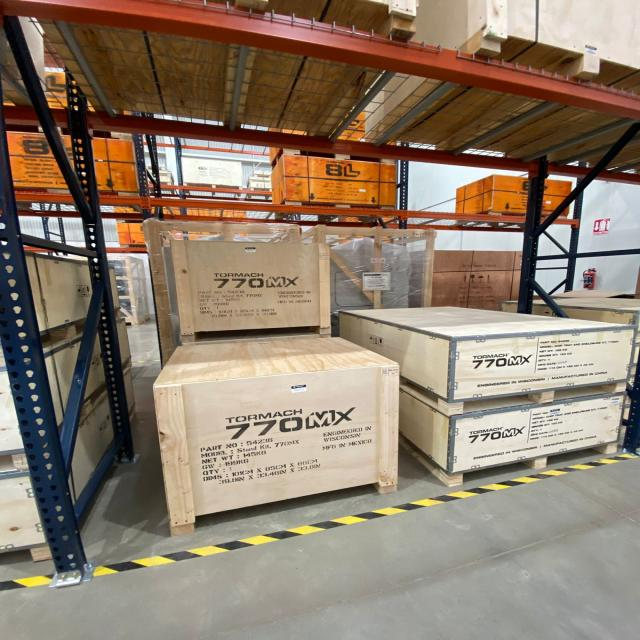encl770: (342, 315, 634, 403), (400, 381, 623, 480)
stnd770: (154, 338, 398, 534), (169, 239, 330, 338)
